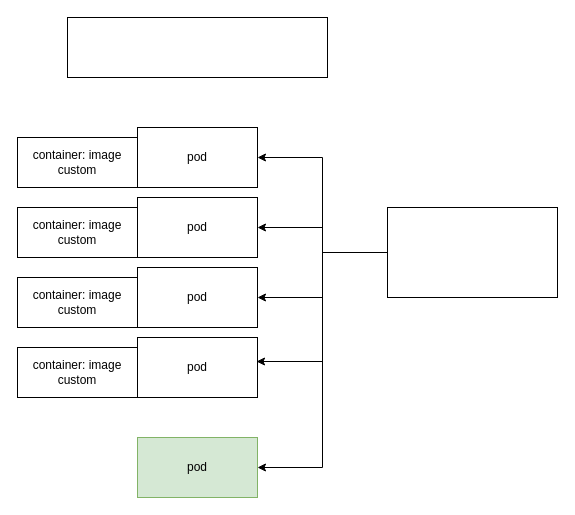
This 575x515 diagram has some shape labels left out. The centre of each missing label's shape, as x and y in pixels:
"Deployment - todo" belongs at (197,47).
"service - todo" belongs at (472,252).
